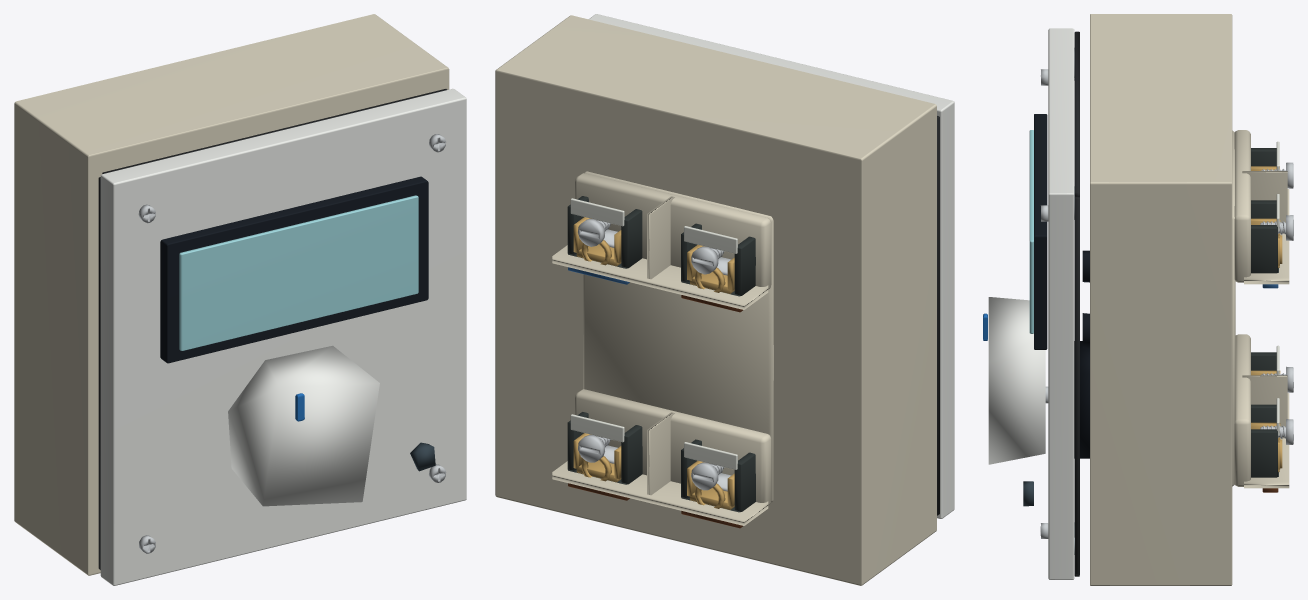
Rendered from smartrelay_default.low.glb.
The picture shows the model from 3 angles, left to right: view 1: azimuth 30°, elevation 25°; view 2: azimuth 150°, elevation 25°; view 3: azimuth 270°, elevation 25°; orthographic projection. The views are drawn at different scales.
Visible parts, largest first — view 1: part:cover, part:body, part:body.001, part:body.002, detail:enclosure-gasket-and-fixings · Detail rubber gasket, detail:enclosure-gasket-and-fixings · Detail zinc plated fix; view 2: part:body, part:terminals · Original 5a609f27, part:cover, detail:terminal-clamp:OUT · Detail moulded engineering polym, detail:terminal-clamp:N · Detail moulded engineering polymer, detail:terminal-clamp:IN · Detail moulded engineering polyme, detail:terminal-clamp:L · Detail moulded engineering polymer, detail:enclosure-gasket-and-fixings · Detail rubber gasket, detail:terminal-clamp:OUT · Detail machined brass, detail:terminal-clamp:N · Detail machined brass, detail:terminal-clamp:IN · Detail machined brass, detail:terminal-clamp:L · Detail machined brass (+8 smaller); view 3: part:body, part:cover, part:terminals · Original 5a609f27, part:body.002, part:body.001, detail:enclosure-gasket-and-fixings · Detail rubber gasket, detail:terminal-clamp:N · Detail moulded engineering polymer, detail:terminal-clamp:OUT · Detail moulded engineering polym, part:contacts, part:electronics · Original 3ff2d46d, detail:terminal-clamp:IN · Detail moulded engineering polyme, detail:terminal-clamp:L · Detail moulded engineering polymer (+1 smaller).
Part boxes in pixels (box(x1,y1,x2,y2)): part:cover: box(100, 88, 466, 585); part:body: box(14, 14, 449, 575); part:body.001: box(160, 176, 428, 363); part:body.002: box(228, 345, 379, 506); detail:enclosure-gasket-and-fixings · Detail rubber gasket: box(98, 89, 447, 569); detail:enclosure-gasket-and-fixings · Detail zinc plated fix: box(138, 134, 446, 553); part:body: box(495, 15, 936, 585); part:terminals · Original 5a609f27: box(552, 171, 773, 525); part:cover: box(589, 14, 954, 518); detail:terminal-clamp:OUT · Detail moulded engineering polym: box(567, 412, 642, 484); detail:terminal-clamp:N · Detail moulded engineering polymer: box(567, 196, 642, 268); detail:terminal-clamp:IN · Detail moulded engineering polyme: box(681, 439, 755, 512); detail:terminal-clamp:L · Detail moulded engineering polymer: box(681, 223, 755, 296); detail:enclosure-gasket-and-fixings · Detail rubber gasket: box(937, 116, 939, 515); detail:terminal-clamp:OUT · Detail machined brass: box(573, 433, 621, 482); detail:terminal-clamp:N · Detail machined brass: box(573, 217, 621, 266); detail:terminal-clamp:IN · Detail machined brass: box(687, 460, 734, 509); detail:terminal-clamp:L · Detail machined brass: box(687, 245, 734, 293); part:body: box(1090, 14, 1232, 585); part:cover: box(1048, 28, 1074, 579); part:terminals · Original 5a609f27: box(1232, 130, 1289, 488); part:body.002: box(983, 297, 1045, 464); part:body.001: box(1029, 114, 1047, 349); detail:enclosure-gasket-and-fixings · Detail rubber gasket: box(1074, 31, 1079, 576); detail:terminal-clamp:N · Detail moulded engineering polymer: box(1251, 200, 1278, 273); detail:terminal-clamp:OUT · Detail moulded engineering polym: box(1251, 404, 1278, 477); part:contacts: box(1074, 341, 1089, 458); part:electronics · Original 3ff2d46d: box(1082, 250, 1089, 348); detail:terminal-clamp:IN · Detail moulded engineering polyme: box(1251, 352, 1276, 370); detail:terminal-clamp:L · Detail moulded engineering polymer: box(1251, 148, 1276, 166).
Bounding box in the file's own units: 0.7954 × 0.8845 × 0.6163.
